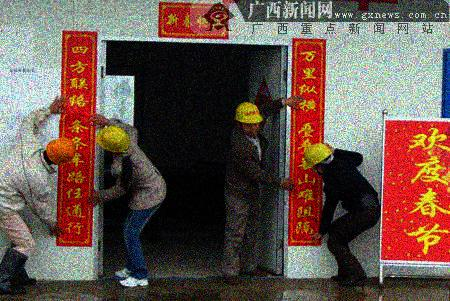helmet: (233, 101, 265, 139), (301, 142, 334, 177), (42, 137, 76, 170), (96, 125, 131, 157)
